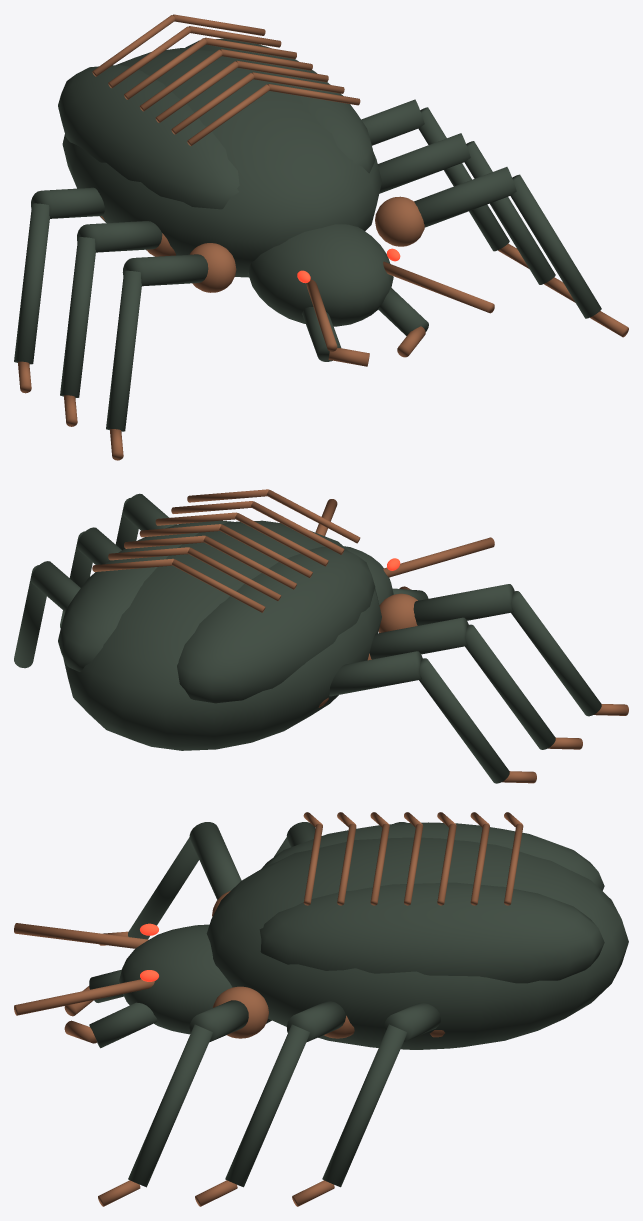
Rendered from beetle.glb.
3 renders of one model, top to bottom at view 1: azimuth 30°, elevation 25°; view 2: azimuth 150°, elevation 25°; view 3: azimuth 270°, elevation 25°, orthographic. The views are drawn at different scales.
Visible parts, largest first — view 1: body_shell.012, body_copper.024, leg0R_shell.012, leg0L_shell.012, leg1L_shell.012, leg1R_shell.012, leg2L_shell.012, leg2R_shell.012, leg0R_copper.012, leg0L_copper.012, leg1L_copper.012; view 2: body_shell.012, body_copper.024, leg0L_shell.012, leg1L_shell.012, leg2L_shell.012, leg2R_shell.012, leg1R_shell.012, leg0R_shell.012, leg0L_copper.012; view 3: body_shell.012, body_copper.024, leg0R_shell.012, leg1R_shell.012, leg2R_shell.012, leg0L_shell.012, leg0R_copper.012, leg1R_copper.012, leg1L_shell.012, leg2R_copper.012.
Boxes of the visible parts, box(x1,y1,x2,y2) form: body_shell.012: box(58, 38, 428, 361); body_copper.024: box(92, 14, 494, 366); leg0R_shell.012: box(414, 167, 601, 318); leg0L_shell.012: box(106, 254, 208, 431); leg1L_shell.012: box(60, 221, 162, 397); leg1R_shell.012: box(378, 133, 555, 284); leg2L_shell.012: box(14, 187, 104, 364); leg2R_shell.012: box(361, 99, 509, 251); leg0R_copper.012: box(375, 196, 628, 337); leg0L_copper.012: box(110, 243, 236, 460); leg1L_copper.012: box(64, 233, 175, 426); body_shell.012: box(58, 520, 428, 750); body_copper.024: box(92, 489, 494, 612); leg0L_shell.012: box(413, 584, 601, 716); leg1L_shell.012: box(369, 617, 555, 749); leg2L_shell.012: box(329, 651, 509, 783); leg2R_shell.012: box(14, 561, 80, 668); leg1R_shell.012: box(60, 527, 121, 628); leg0R_shell.012: box(115, 493, 176, 549); leg0L_copper.012: box(378, 593, 628, 715); body_shell.012: box(89, 822, 628, 1049); body_copper.024: box(14, 812, 523, 1043); leg0R_shell.012: box(128, 1000, 248, 1187); leg1R_shell.012: box(225, 1001, 345, 1187); leg2R_shell.012: box(322, 1003, 440, 1187); leg0L_shell.012: box(128, 822, 241, 939); leg0R_copper.012: box(98, 986, 268, 1206); leg1R_copper.012: box(195, 1015, 354, 1206); leg1L_shell.012: box(274, 822, 315, 856); leg2R_copper.012: box(292, 1030, 444, 1206).
Size of the model in its own units: 1.04 by 0.4593 by 1.01.
